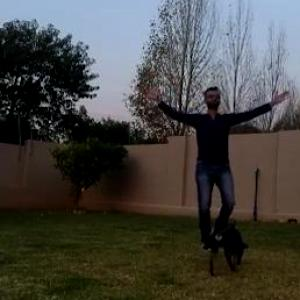takeoff: (140, 72, 280, 250)
